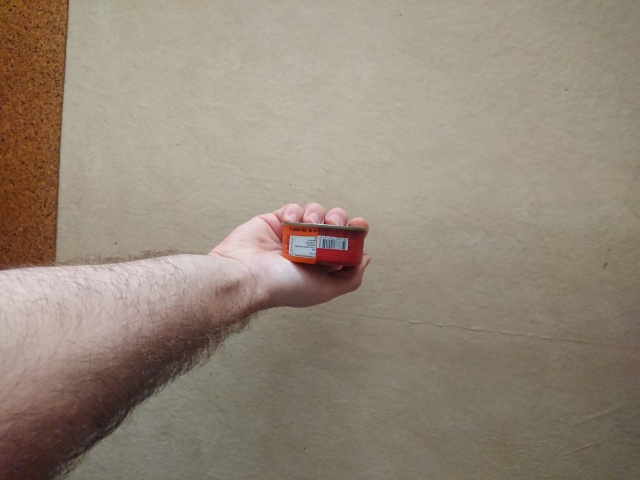Gavrilovic Pork Liver Pate 100g: (279, 220, 368, 269)
